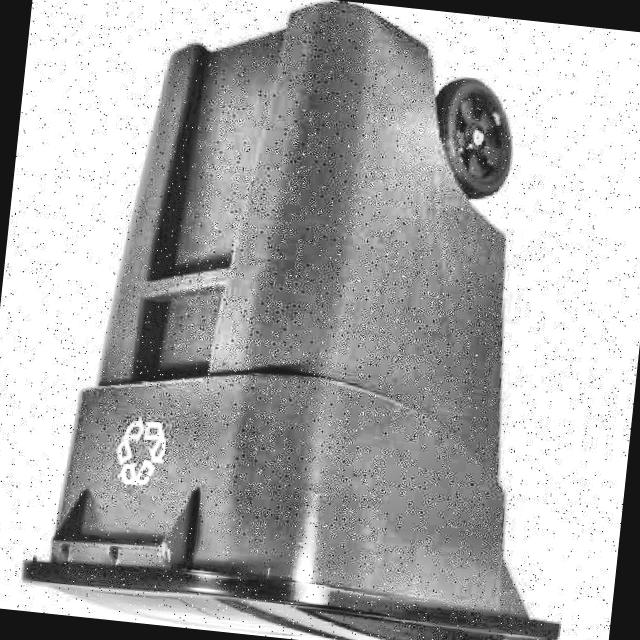Dustbin: (11, 0, 631, 640)
